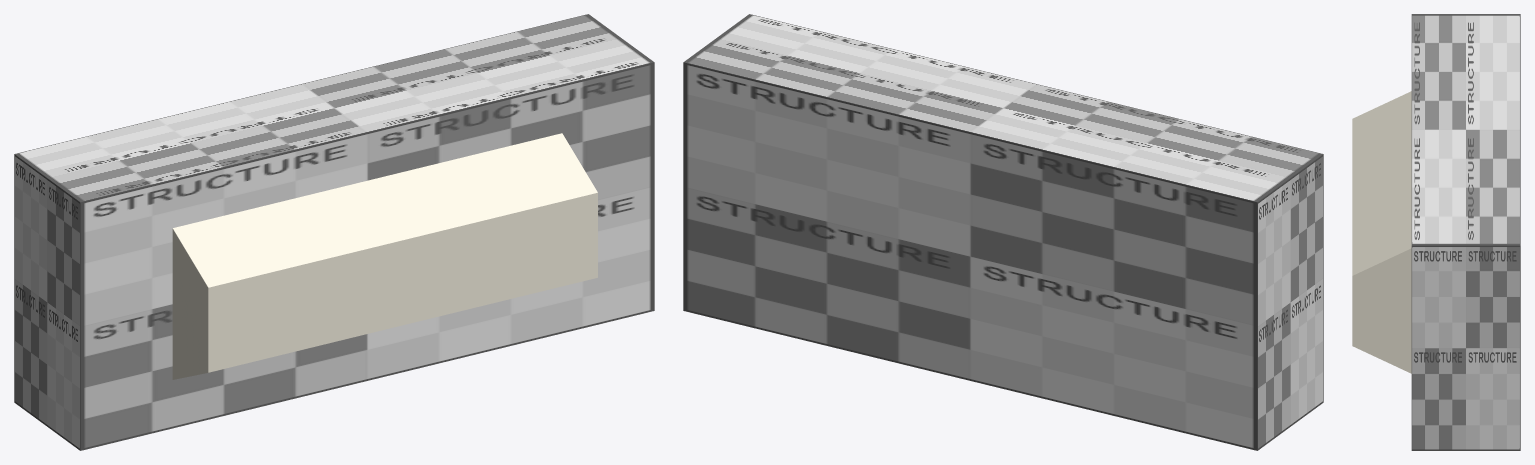
File: Side Light.fbx
3 views of the same model, side by side, from view 1: azimuth 30°, elevation 25°; view 2: azimuth 150°, elevation 25°; view 3: azimuth 270°, elevation 25° (orthographic). The views are drawn at different scales.
Visible parts, largest first — view 1: Side_Light, Cube__1_; view 2: Side_Light; view 3: Side_Light, Cube__1_.
Boxes of the visible parts, x1,y1,x2,y2 form: Side_Light: (14,14,654,450); Cube__1_: (172,133,597,379); Side_Light: (683,14,1323,450); Side_Light: (1411,14,1520,450); Cube__1_: (1352,91,1411,373).
Size of the model in its own units: 103 by 42.62 by 31.6.
